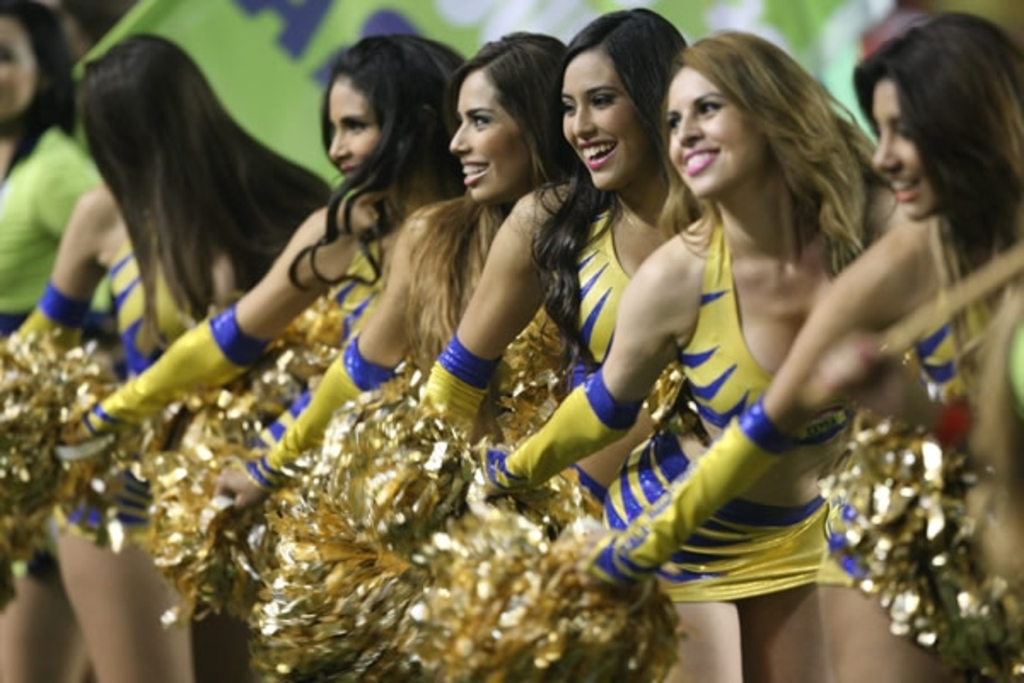person: (59, 30, 340, 419)
